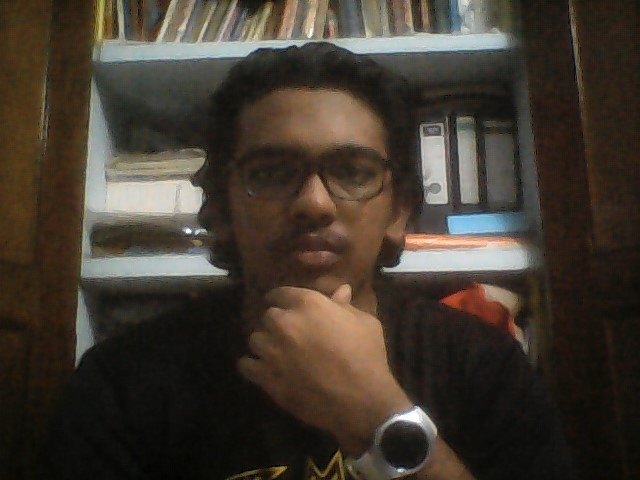person: (58, 41, 528, 480)
smartwatch: (335, 397, 452, 480)
